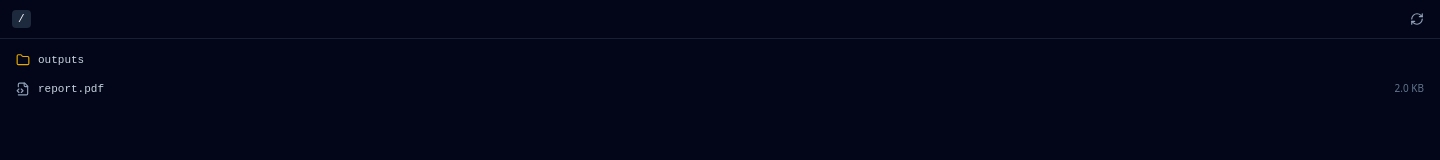
Security boundary & MVP interactive cards › triggers workspace file context menu IPC on right-click for folders, files, and empty list area, and surfaces errors
Expected: the text "outputs" is shown, x1=38 y1=53 x2=84 y2=68
Right-click the button "outputs" at (61, 60), box x1=8 y1=47 x2=1432 y2=74
Right-click the element with test id "workspace-files-list" at (720, 75), box x1=8 y1=47 x2=1432 y2=102
Right-click the text "report.pdf" at (71, 89), box x1=38 y1=82 x2=104 y2=96
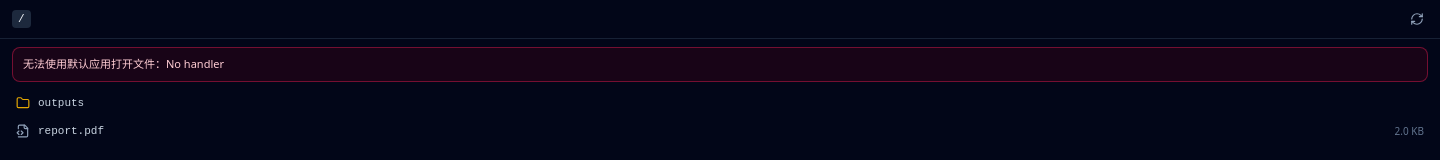
Now the text "无法使用默认应用打开文件：No handler" is shown, box x1=12 y1=47 x2=1428 y2=82
